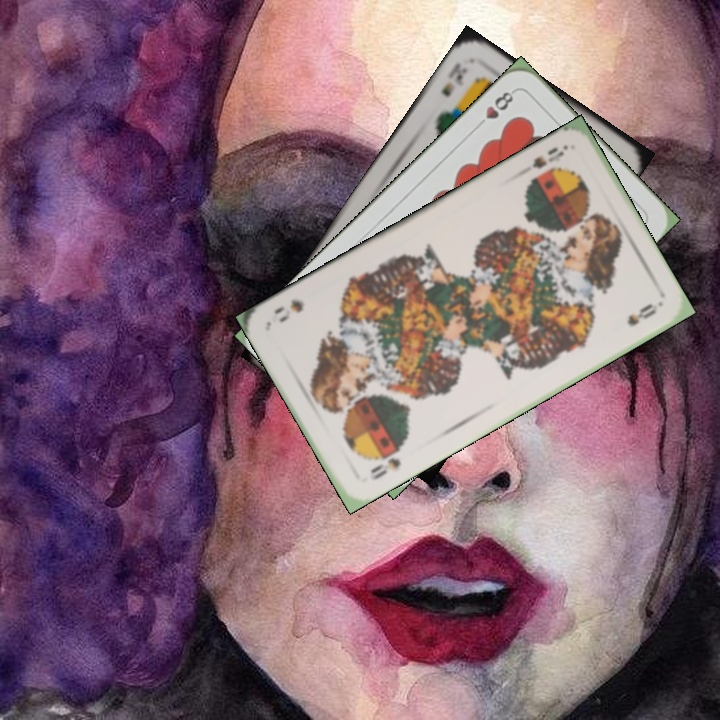EK: (437, 58, 470, 99)
H8: (472, 86, 517, 132)
SO: (366, 453, 404, 483), (528, 143, 567, 172)
